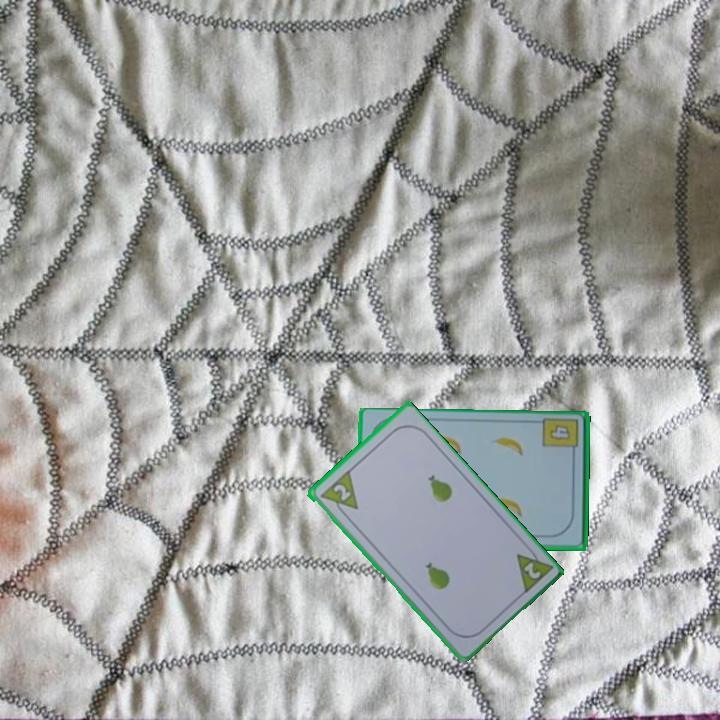2p: (329, 480, 353, 504), (520, 558, 543, 582)
4b: (539, 415, 582, 460)
